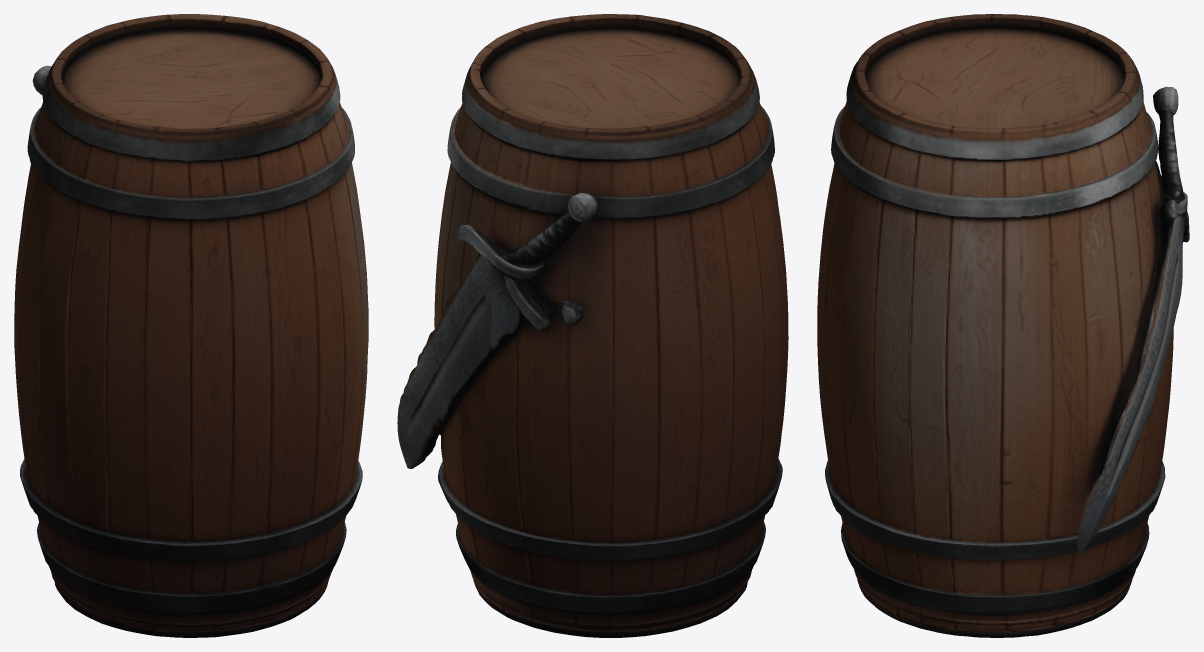
Rendered from Sword_Barrel.glb.
3 renders of one model, left to right at view 1: azimuth 30°, elevation 25°; view 2: azimuth 150°, elevation 25°; view 3: azimuth 270°, elevation 25°, orthographic.
Parts seen in each view (by area): view 1: world; view 2: world; view 3: world.
Part boxes in pixels (<box>): world: <box>14,14,368,637</box>; world: <box>397,14,788,637</box>; world: <box>817,14,1189,637</box>.
Bounding box in the file's own units: 0.6685 × 1 × 0.6625.
Materials: 1 (1 with a texture image).
